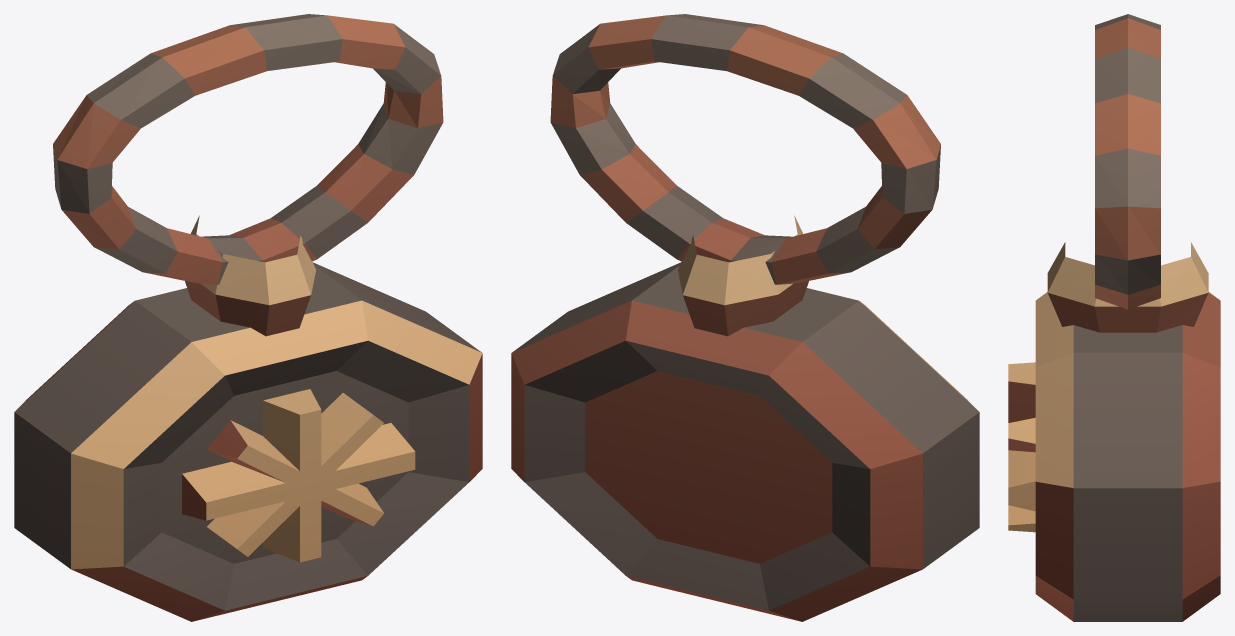
The model's file is source.glb.
The picture shows the model from 3 angles, left to right: view 1: azimuth 30°, elevation 25°; view 2: azimuth 150°, elevation 25°; view 3: azimuth 270°, elevation 25°; orthographic projection. The views are drawn at different scales.
Parts seen in each view (by area): view 1: model; view 2: model; view 3: model.
Boxes of the visible parts, bbox=[...] form: model: bbox=[14, 14, 482, 621]; model: bbox=[511, 14, 979, 621]; model: bbox=[1008, 14, 1220, 621].
Bounding box in the file's own units: 0.56 × 0.72 × 0.26.
Materials: 1 (1 with a texture image).
